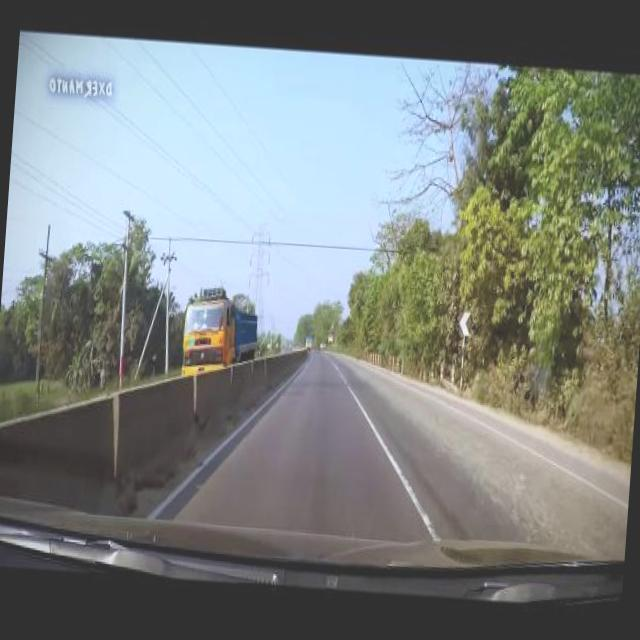truck: (179, 282, 263, 387), (305, 331, 314, 352)
